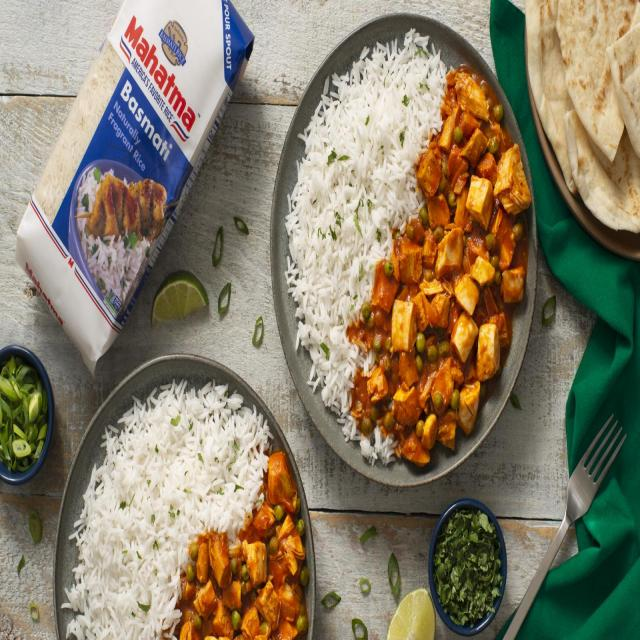chicken: (390, 106, 528, 457), (199, 470, 343, 640)
rice: (290, 11, 414, 464), (67, 377, 220, 640)
roti: (526, 0, 640, 225)
